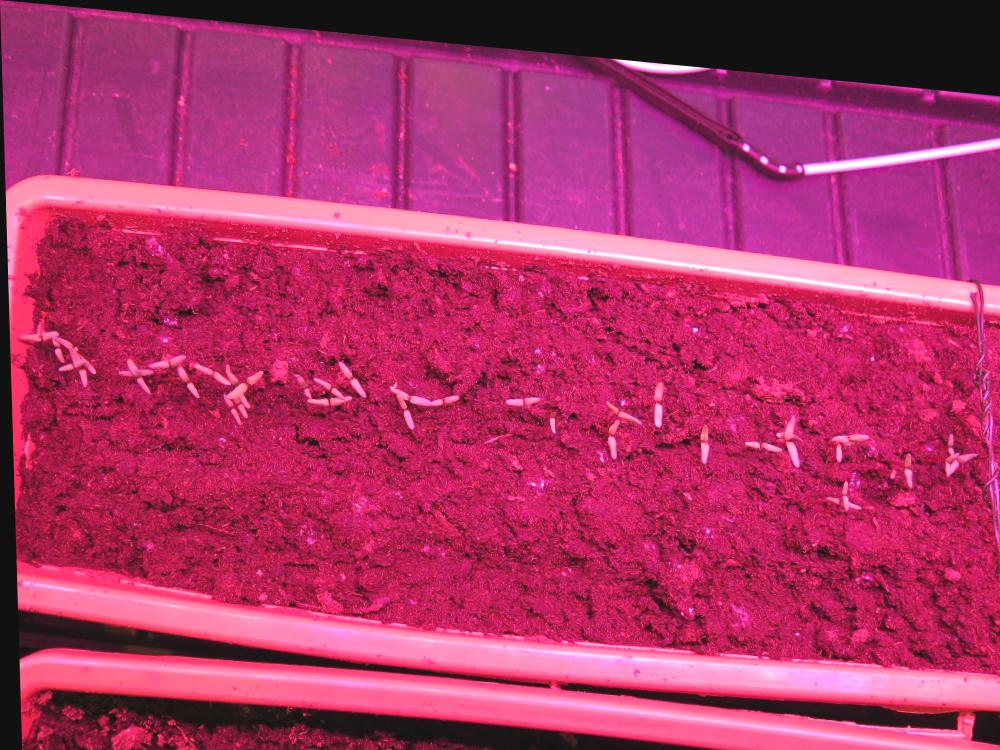crop: (500, 380, 538, 398), (602, 404, 617, 448), (740, 421, 780, 437), (648, 366, 660, 414), (695, 407, 707, 450), (898, 430, 909, 472), (544, 396, 554, 423)
